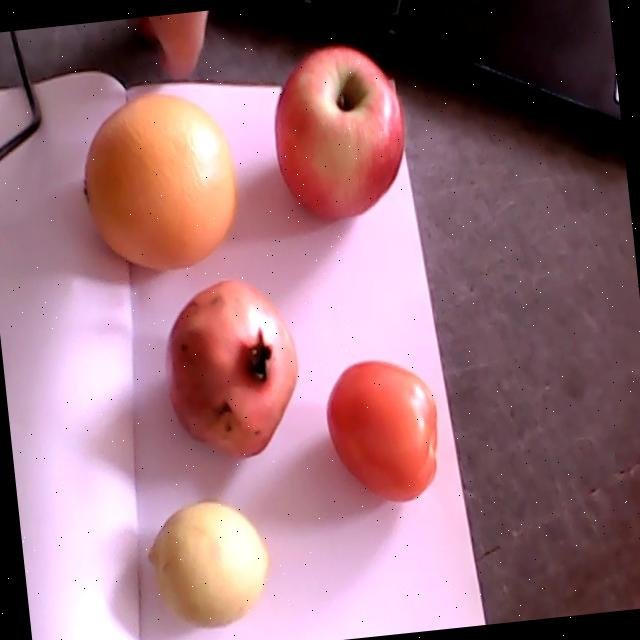apple: (275, 46, 404, 220)
lemon: (147, 500, 269, 627)
orange: (84, 93, 236, 269)
pomegranate: (165, 281, 299, 460)
tomato: (327, 360, 437, 501)
